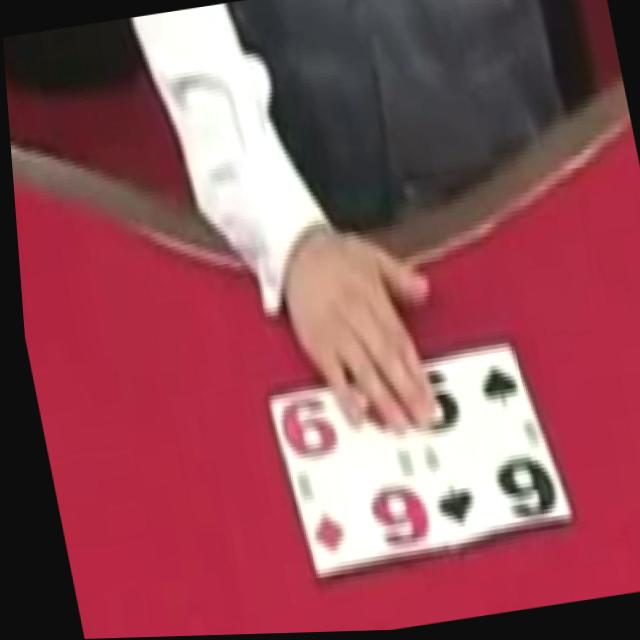Card-6: (260, 365, 435, 579), (390, 344, 564, 546)
